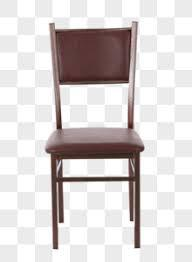chair: (19, 13, 173, 246)
